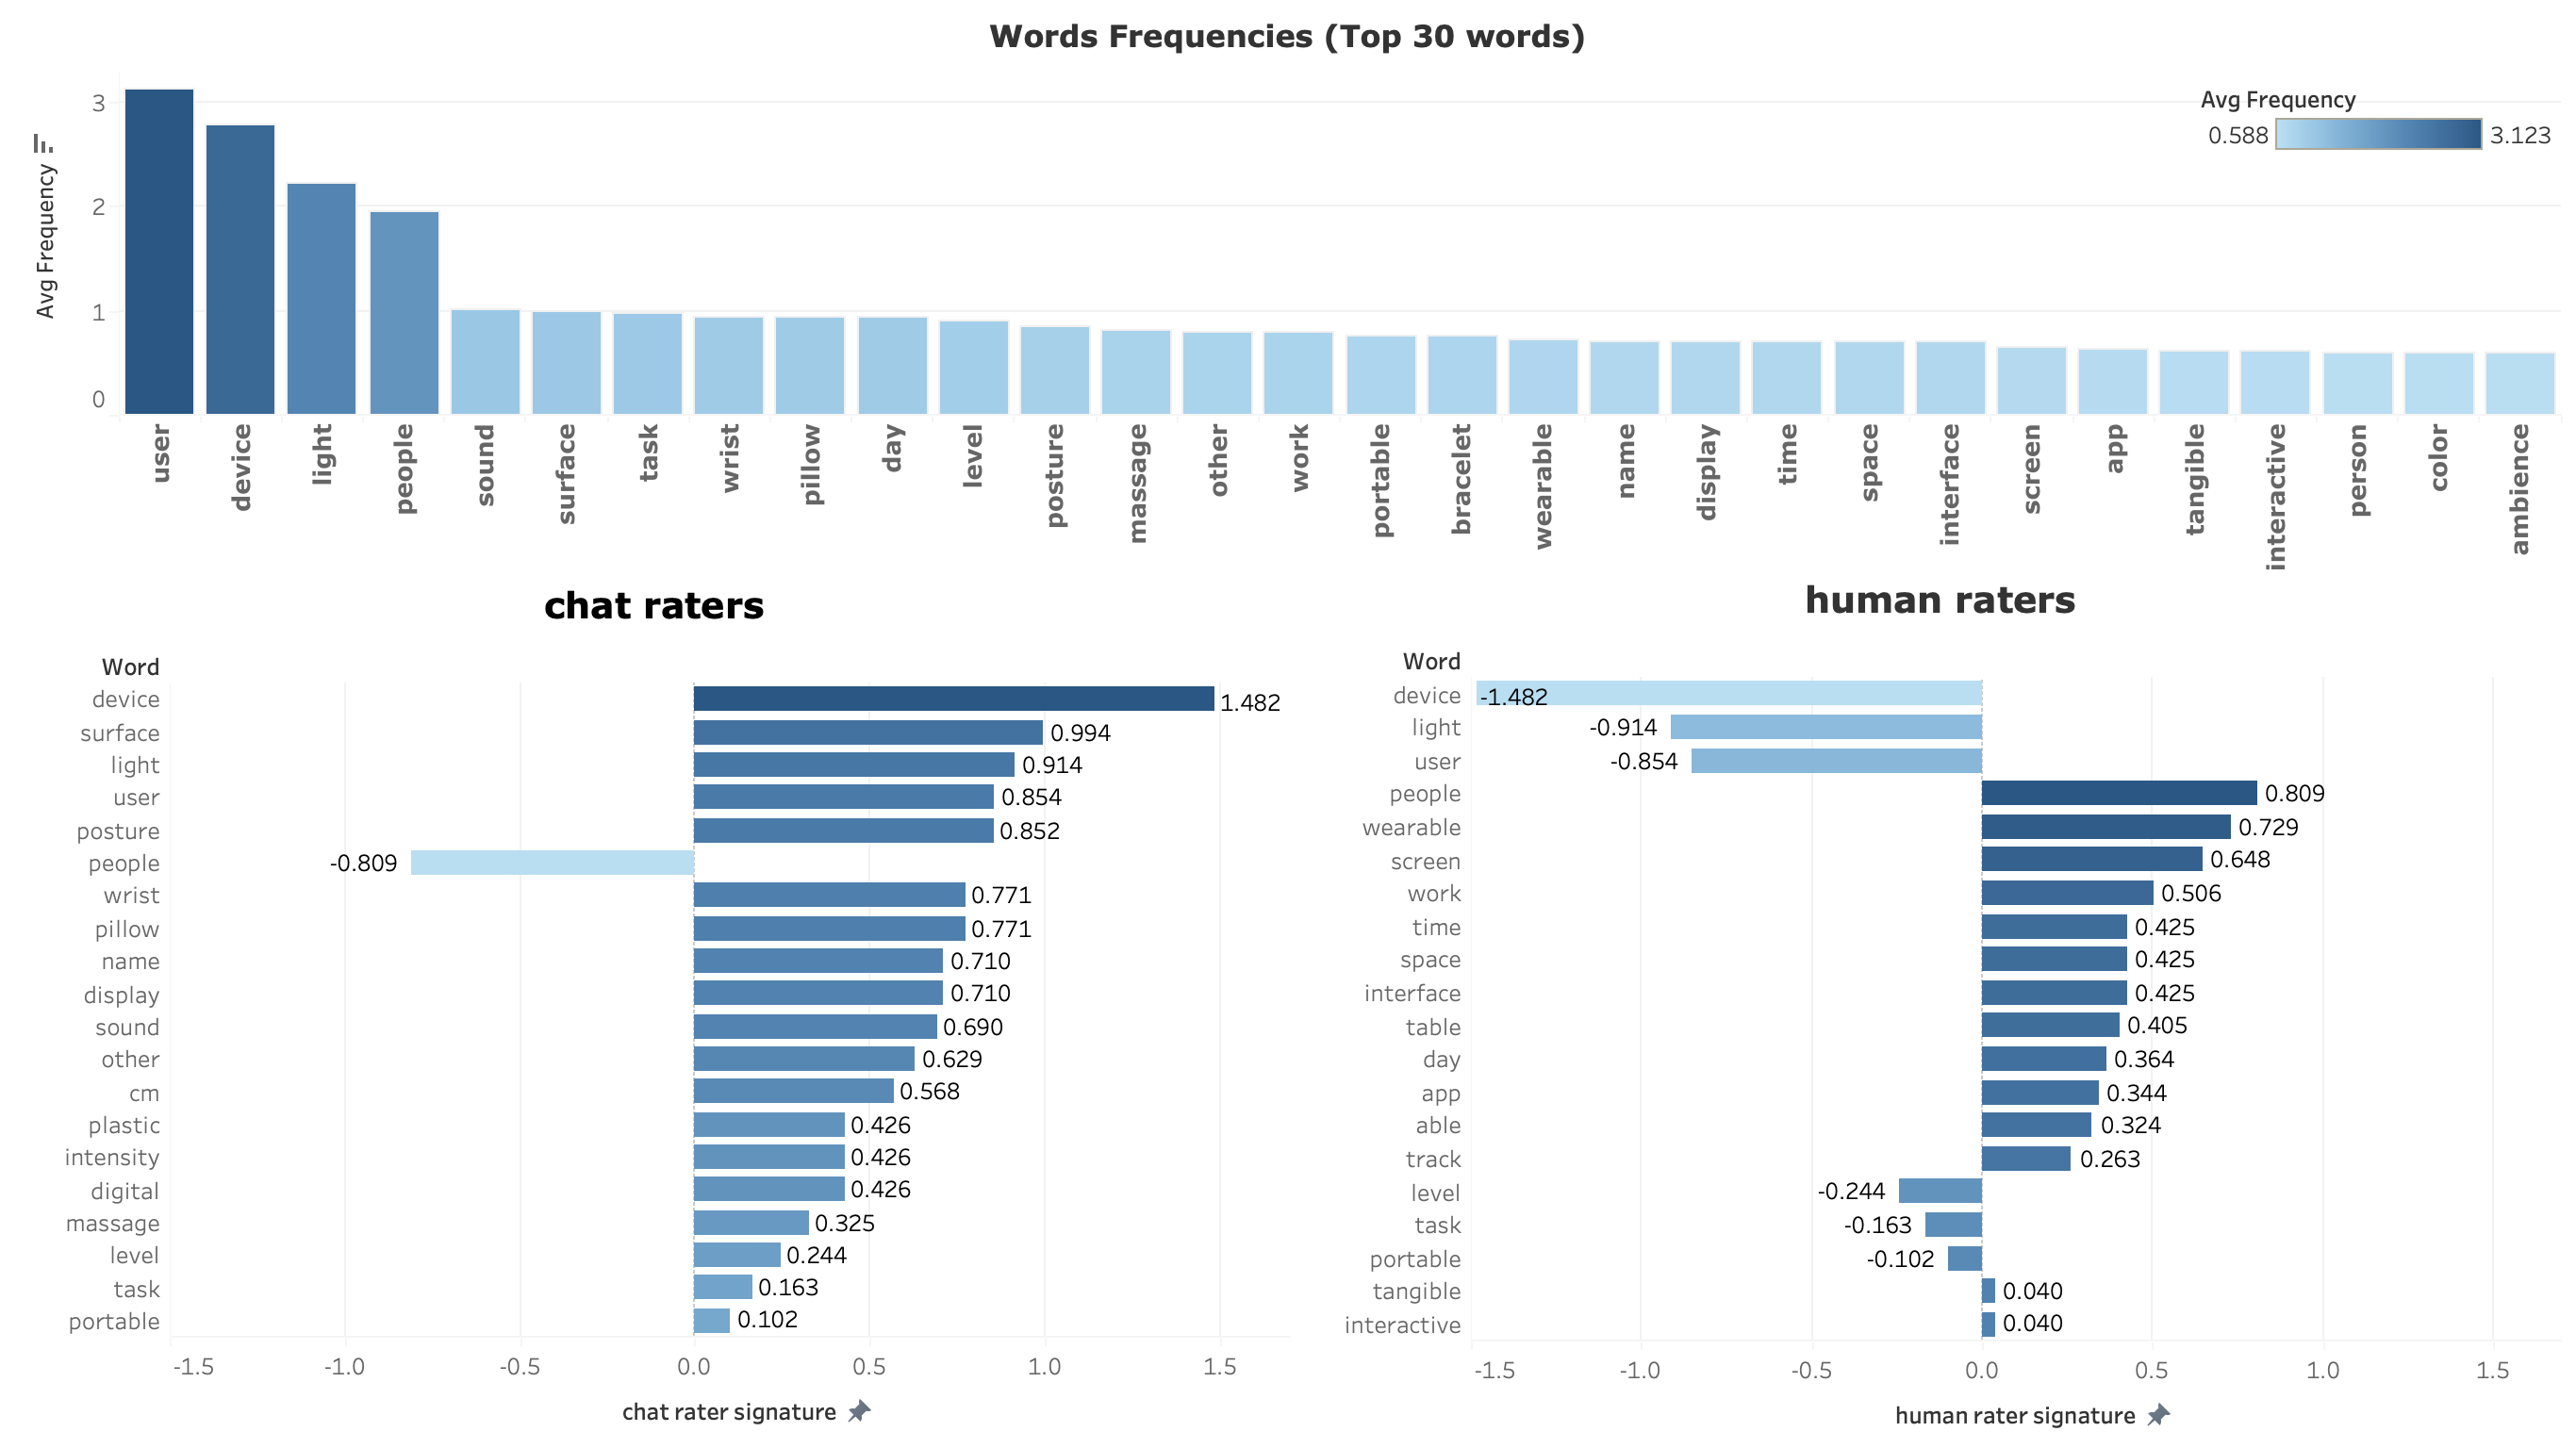

Layout of this report page (visuals, bound fields, positions):
{"tool":"tableau","page":{"name":"Dashboard 1","canvas":[1366,768],"ordinal":0},"visuals":[{"type":"worksheet","title":"Words Frequencies (Top 30 words)","mark":"Automatic","rows":["AvgFreq"],"cols":["word"],"box":[8,3,1350,317]},{"type":"legend","title":"Words Frequencies (Top 30 words)","param":"[federated.141hn0e0cqmt1f1e6uj3g1yfydsc].[sum:AvgFreq:qk]","box":[1166.6,40.3,191.2,73]},{"type":"worksheet","title":"Human Signature","mark":"Automatic","rows":["word (signatures_human.csv)"],"cols":["HumanFreqSig (signatures_human.csv)"],"box":[700,300,658,466]},{"type":"worksheet","title":"GPT4 Signature","mark":"Automatic","rows":["word (signatures_chat.csv)"],"cols":["ChatFreqSig (signatures_chat.csv)"],"box":[10,303,674,461]}]}

Visuals, with their boxes in screenshot pixels (x1, y1, x2, y2), scaled from the page's 1366x768 canvas onto the 2576x1448 screenshot:
"Words Frequencies (Top 30 words)" worksheet: [15,6,2561,603]
"Words Frequencies (Top 30 words)" legend: [2200,76,2561,214]
"Human Signature" worksheet: [1320,566,2561,1444]
"GPT4 Signature" worksheet: [19,571,1290,1440]
